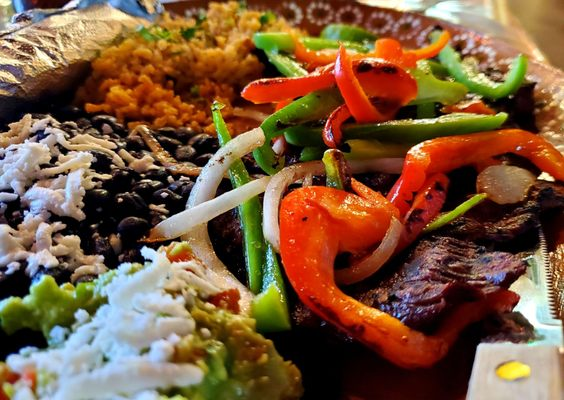pizza: (386, 129, 564, 206)
